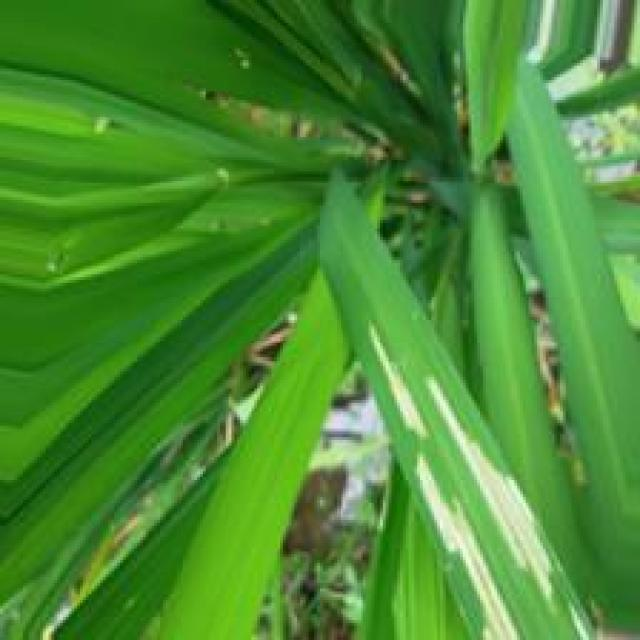Rice_Hispa: (418, 371, 555, 599), (409, 452, 525, 640), (368, 329, 430, 442)
